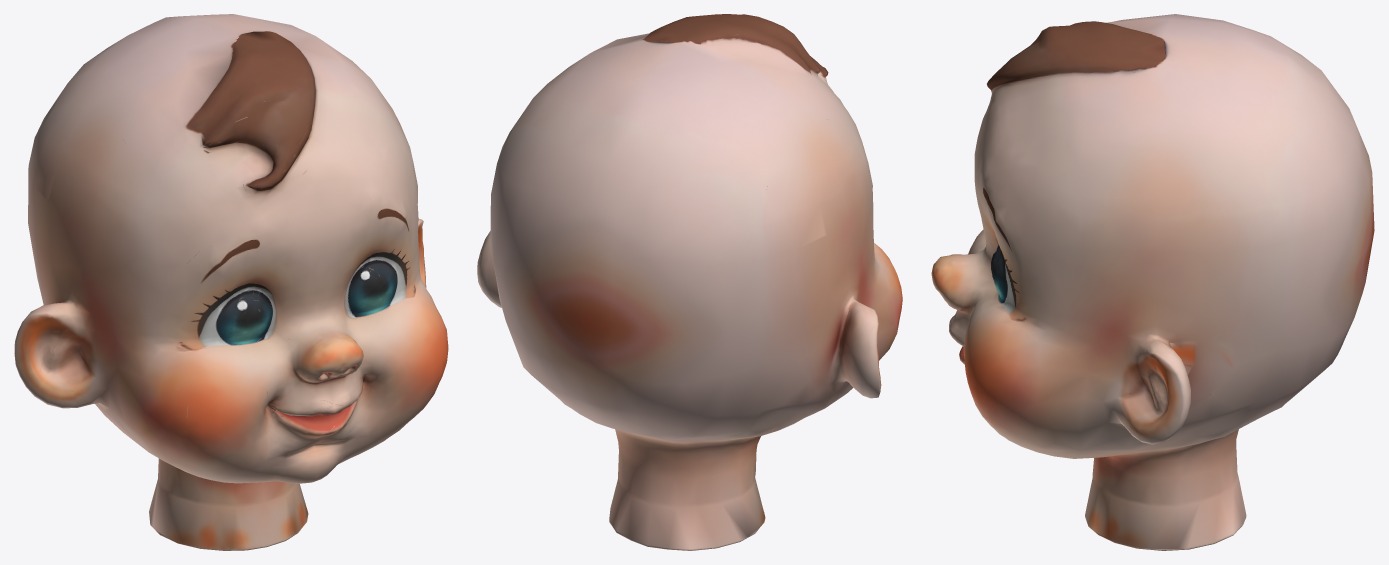
File: Meshy_AI_An_adorable_stylized__0209201139_texture.glb
3 views of the same model, side by side, from view 1: azimuth 30°, elevation 25°; view 2: azimuth 150°, elevation 25°; view 3: azimuth 270°, elevation 25° (orthographic). The views are drawn at different scales.
Visible parts, largest first — view 1: Mesh_0; view 2: Mesh_0; view 3: Mesh_0.
Part boxes in pixels (x1,y1,x2,y2): Mesh_0: (14,14,448,550); Mesh_0: (477,14,902,550); Mesh_0: (931,14,1374,550).
Size of the model in its own units: 0.2643 by 0.3 by 0.247.
1 material, 1 textured.
